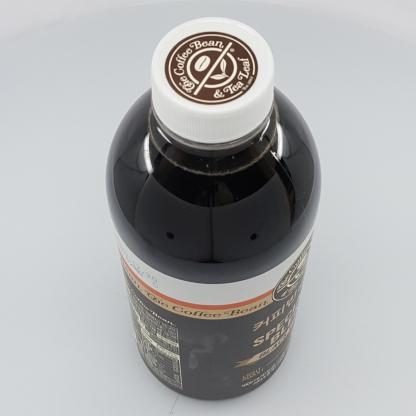--------: (106, 16, 322, 400)
